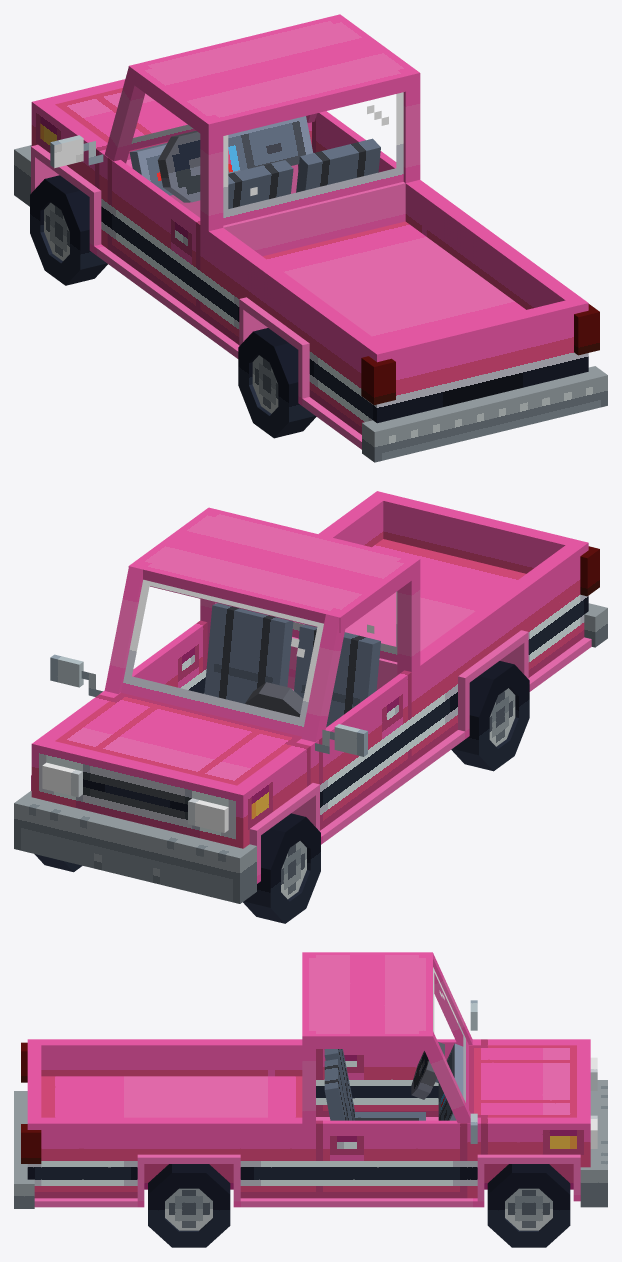
File: pickup-pink.gltf
The picture shows the model from 3 angles, top to bottom: view 1: azimuth 30°, elevation 25°; view 2: azimuth 150°, elevation 25°; view 3: azimuth 270°, elevation 25°; orthographic projection. The views are drawn at different scales.
Visible parts, largest first — view 1: cube (×37), tube (×2), cylinder (×3); view 2: cube (×37), tube (×2), cylinder (×3); view 3: cube (×37), tube (×2), cylinder (×3).
Boxes of the visible parts, x1,y1,x2,y2 form: cube (×37): (14, 14, 607, 462); tube (×2): (30, 175, 316, 438); cylinder (×3): (44, 131, 278, 413); cube (×37): (14, 491, 607, 903); tube (×2): (243, 661, 529, 923); cylinder (×3): (245, 682, 515, 899); cube (×37): (14, 952, 607, 1208); tube (×2): (148, 1164, 570, 1247); cylinder (×3): (165, 1042, 552, 1230).
Size of the model in its own units: 2.15 by 1.65 by 4.32.
2 materials, 2 textured.
